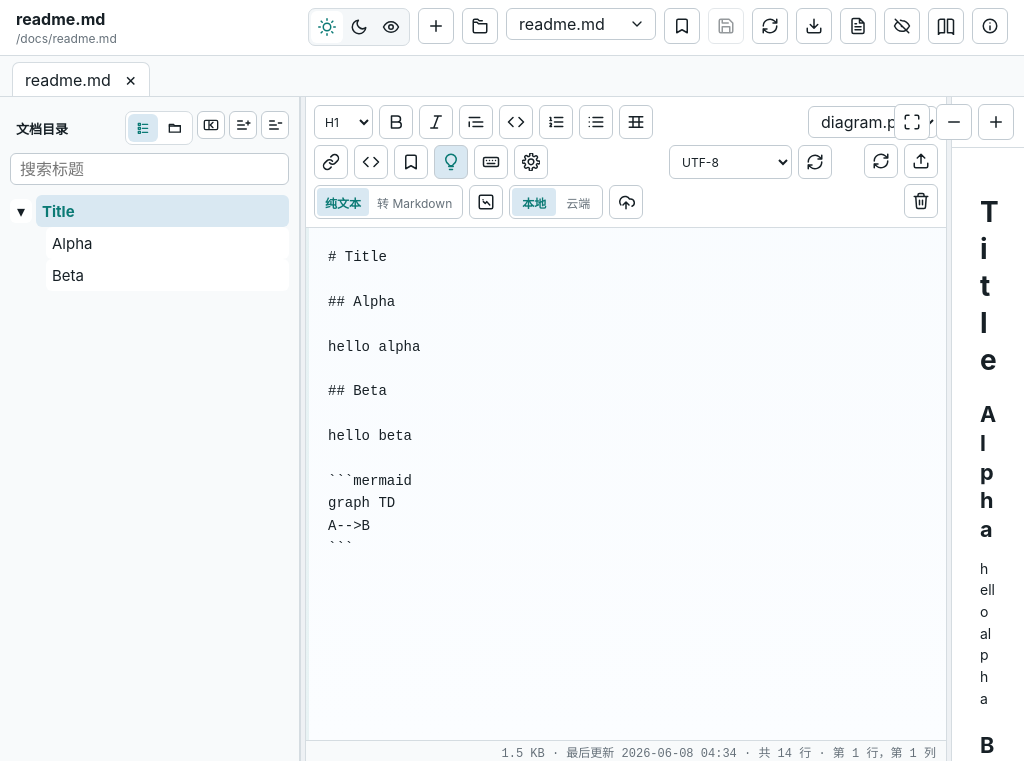
Test: App › applies quote with Cmd+Alt+Q and list with Cmd+Alt+U/O shortcuts
Replace the text in the text box with test id "editor" with "Quote me" at [626, 484], box [306,228,946,740]
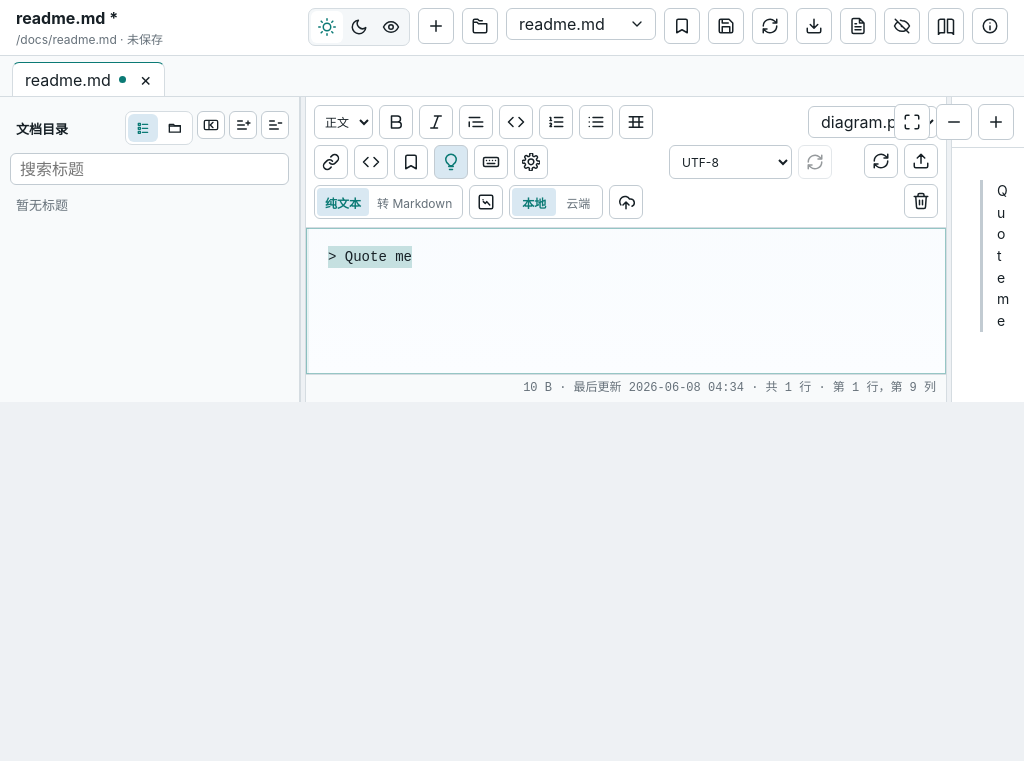
Check: the text box with test id "editor" holds "> Quote me"
Replace the text in the text box with test id "editor" with "Item" at [626, 301], box [306,228,946,374]
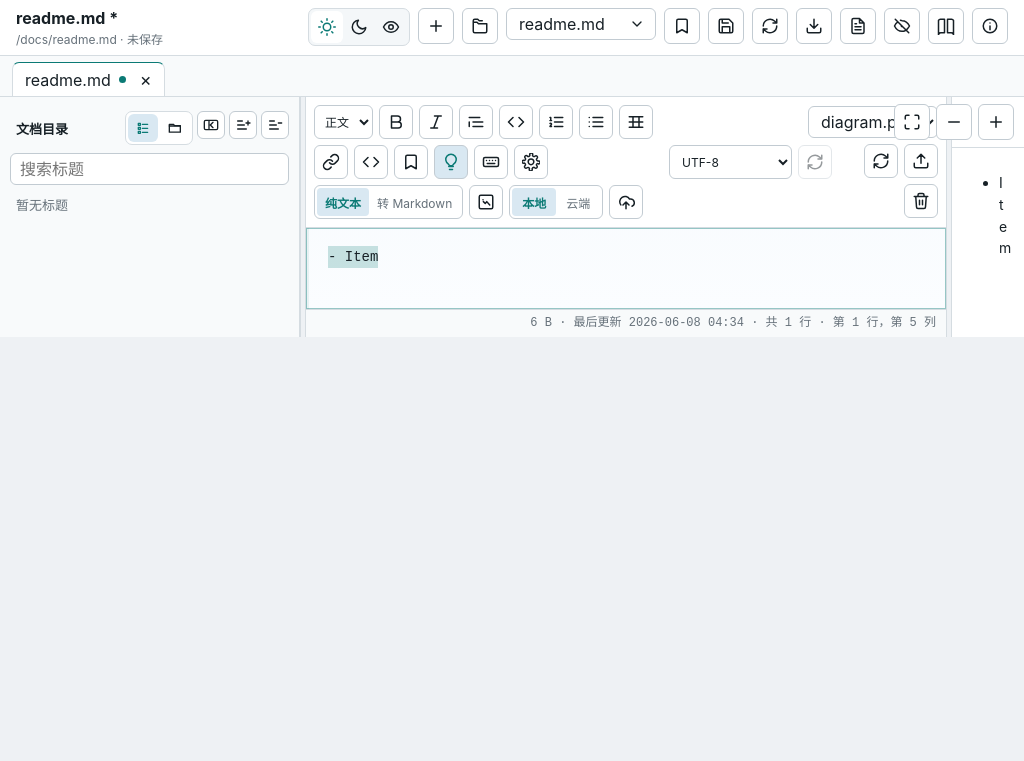
Check: the text box with test id "editor" holds "- Item"
Replace the text in the text box with test id "editor" with "Item" at [626, 268], box [306,228,946,309]
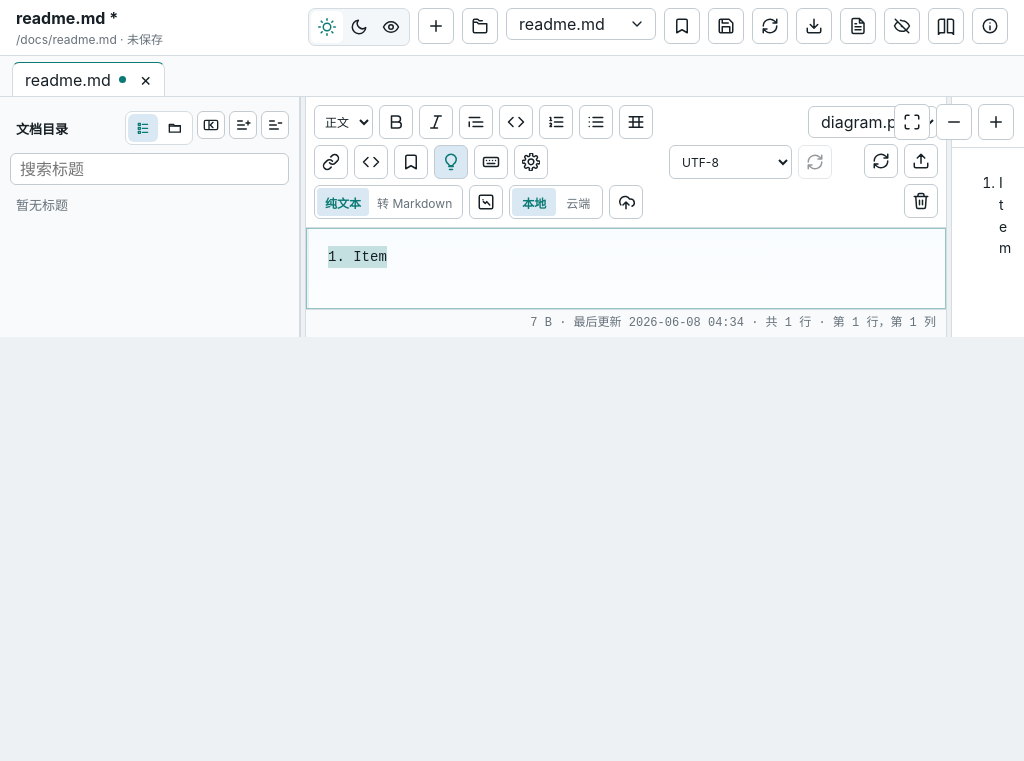
Check: the text box with test id "editor" holds "1. Item", box [306,228,946,309]
